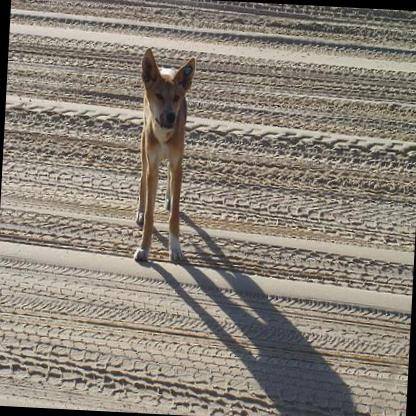dingo: (129, 46, 196, 264)
